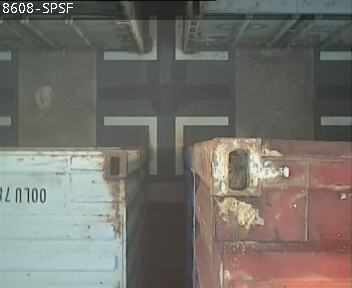groundmarker_1: (102, 115, 228, 176), (101, 13, 228, 59)
